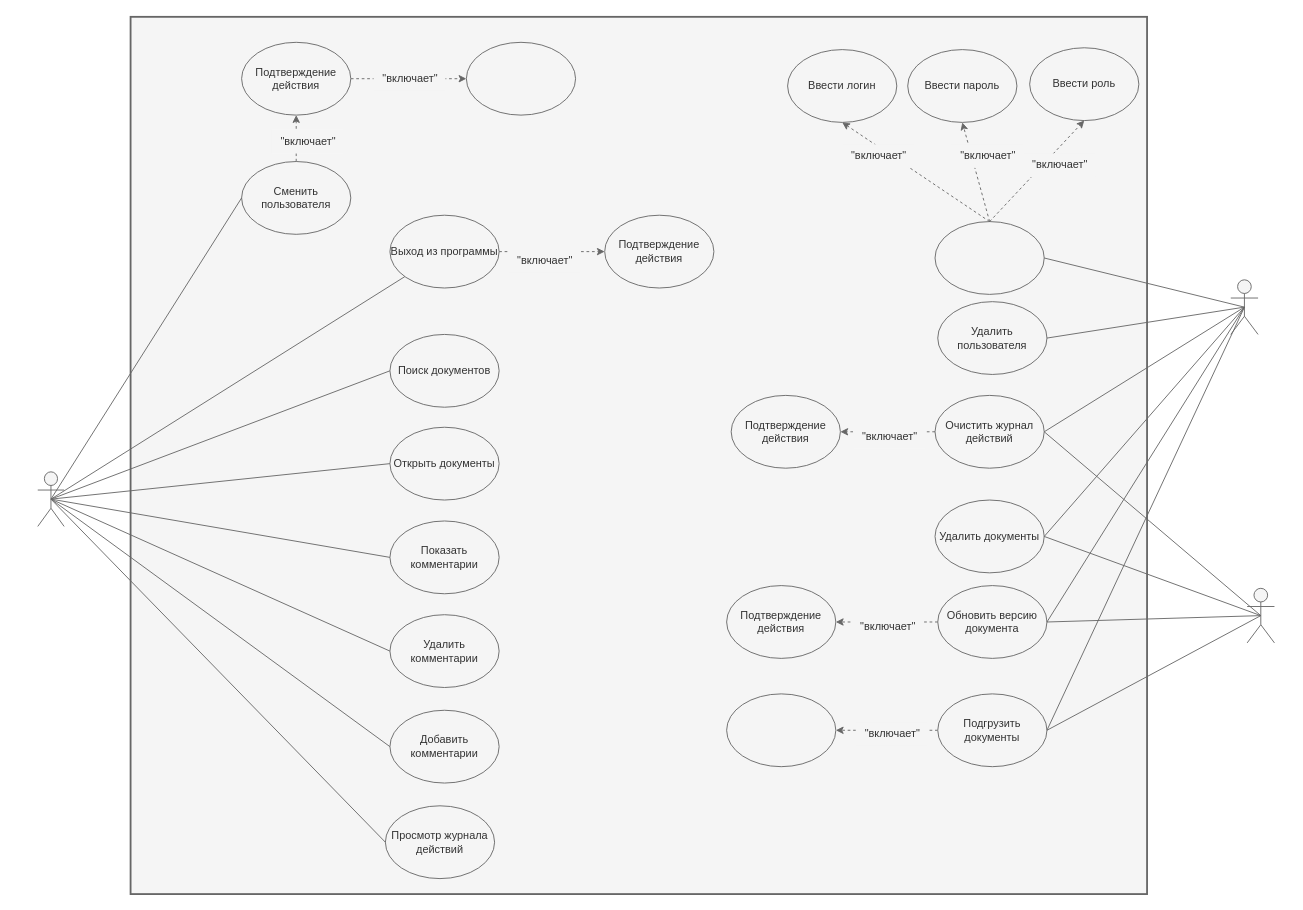
This 1303x910 diagram has some shape labels left out. The centre of each missing label's shape, as x and y in pixels:
Авторизация: the point at 520,78
Администратор: the point at 1244,306
Выбор файлов: the point at 781,730
Добавить пользователя: the point at 989,257
Менеджер: the point at 1260,615
Пользователь: the point at 50,498
